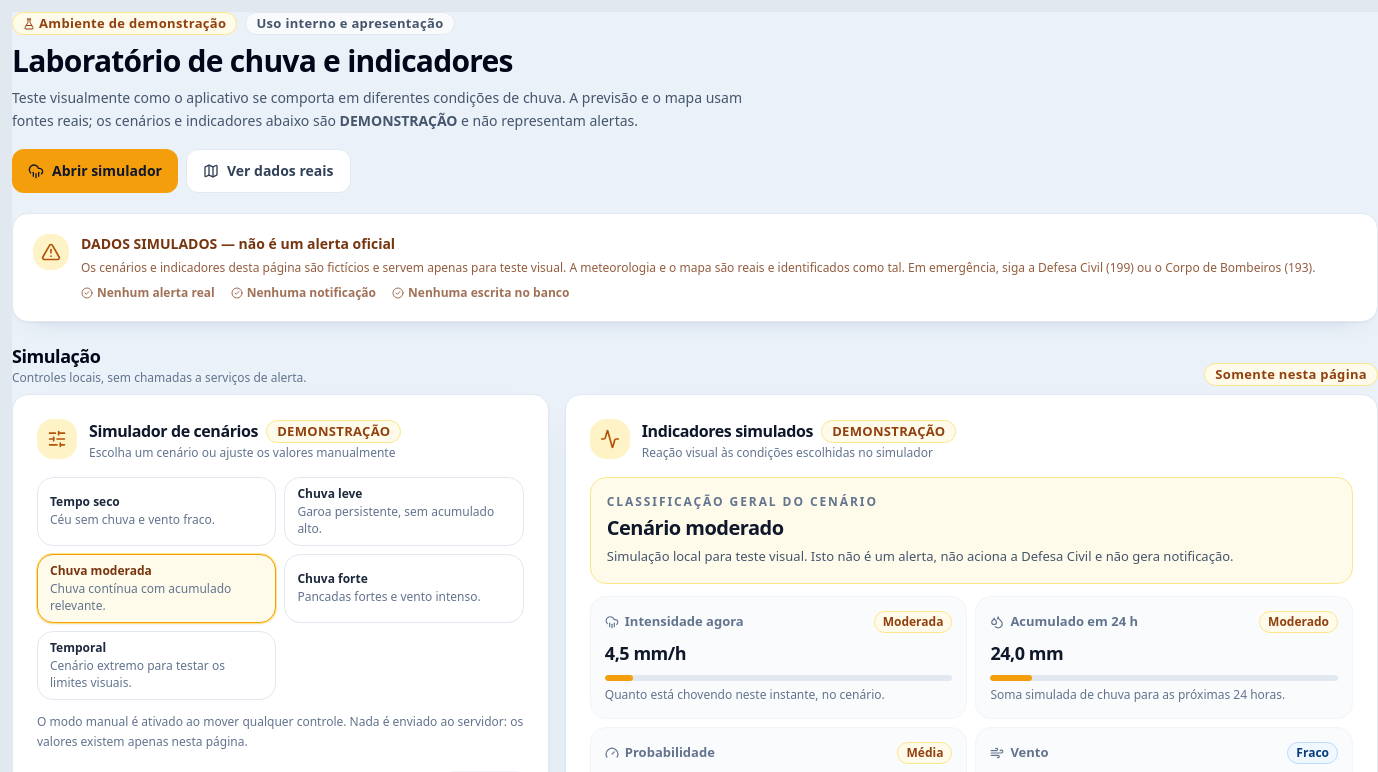
it: DemoPage › troca o cenário e atualiza a classificação simulada
Expected: the text "Cenário moderado" is shown, [607,514,784,541]
Click the button "Temporal Cenário extremo para testar os limites visuais.": (157, 666) [37,631,276,700]
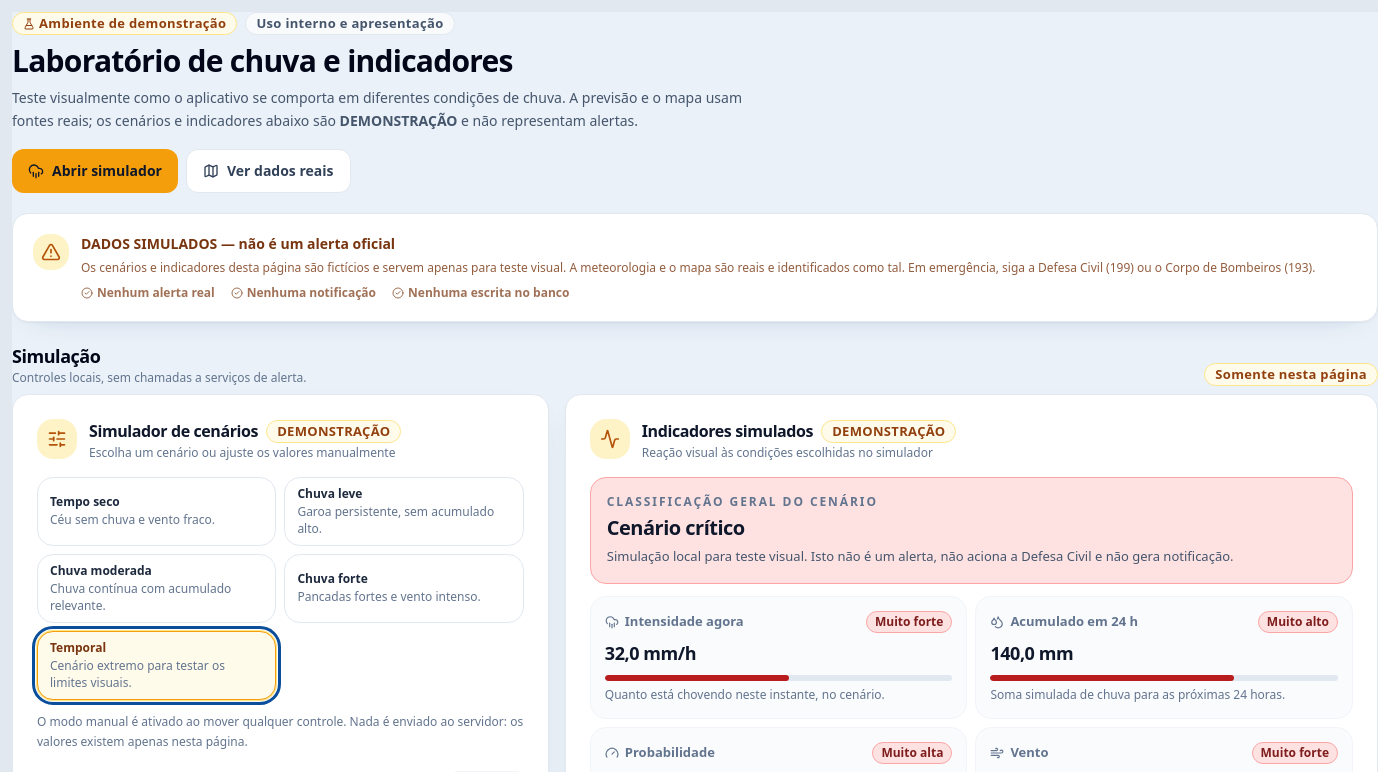
Expected: the text "Cenário crítico" is shown, [607,514,745,541]
